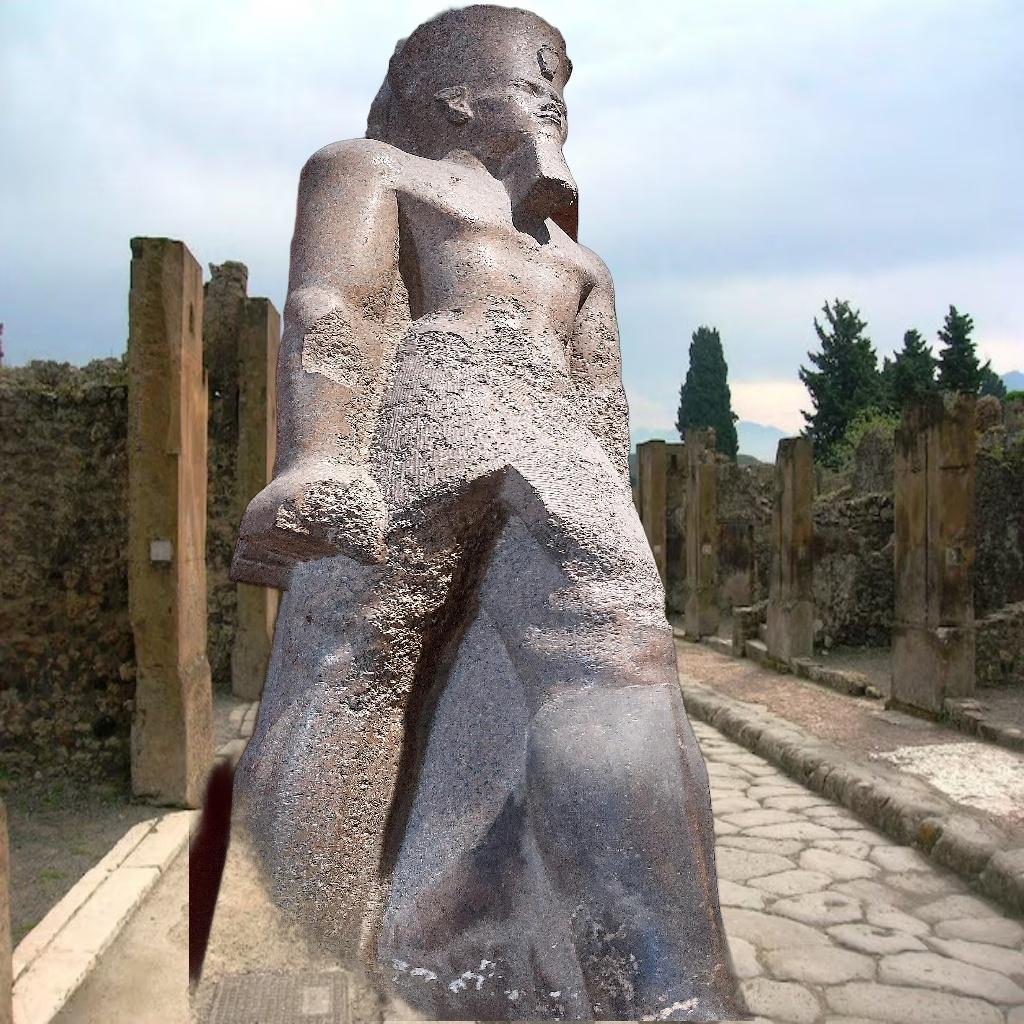Senwosret III: (190, 5, 756, 1021)
